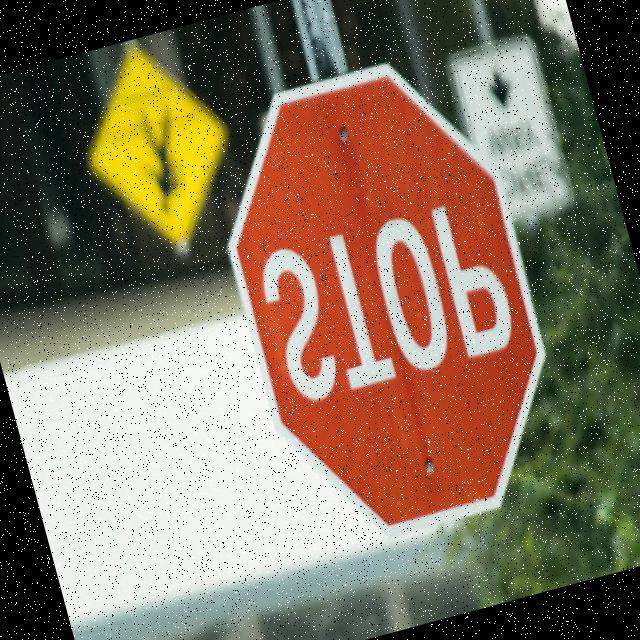stop: (176, 25, 594, 582)
